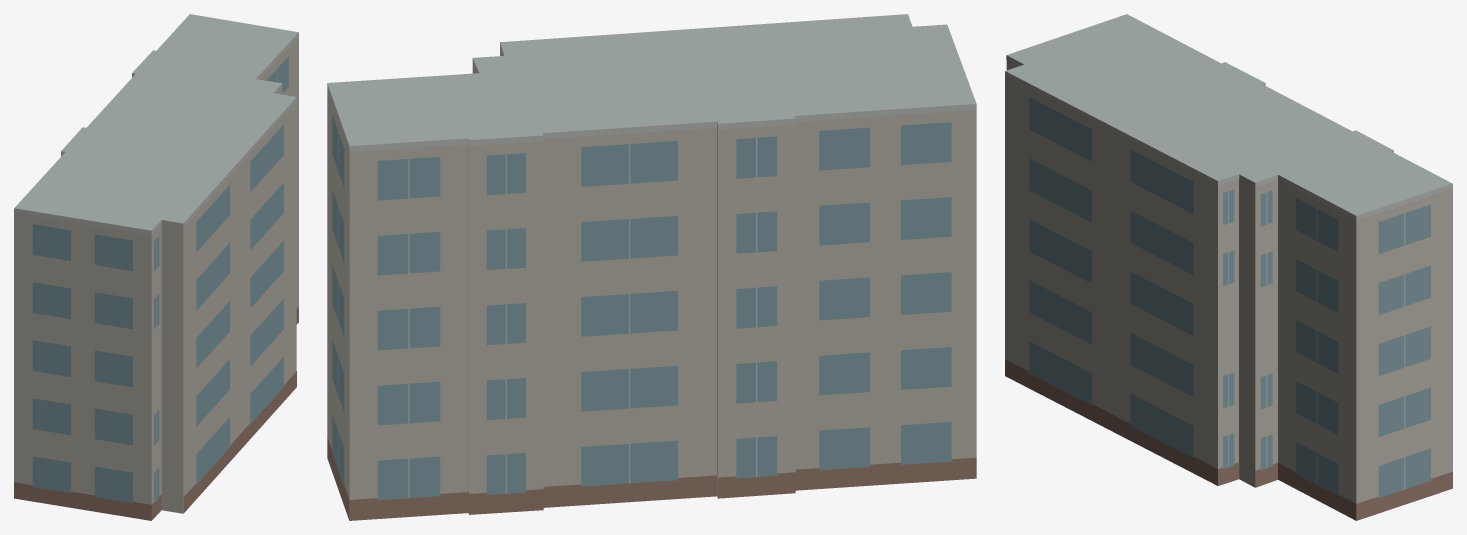
Rendered from survey-upis-32666534.glb.
3 renders of one model, left to right at view 1: azimuth 30°, elevation 25°; view 2: azimuth 150°, elevation 25°; view 3: azimuth 270°, elevation 25°, orthographic. The views are drawn at different scales.
Visible parts, largest first — view 1: survey-upis-32666534.tmp; view 2: survey-upis-32666534.tmp; view 3: survey-upis-32666534.tmp.
Boxes of the visible parts, x1=… form: survey-upis-32666534.tmp: x1=14, y1=14, x2=298, y2=520; survey-upis-32666534.tmp: x1=327, y1=14, x2=976, y2=520; survey-upis-32666534.tmp: x1=1005, y1=14, x2=1452, y2=520.
Bounding box in the file's own units: 21.66 × 15.25 × 20.3.
